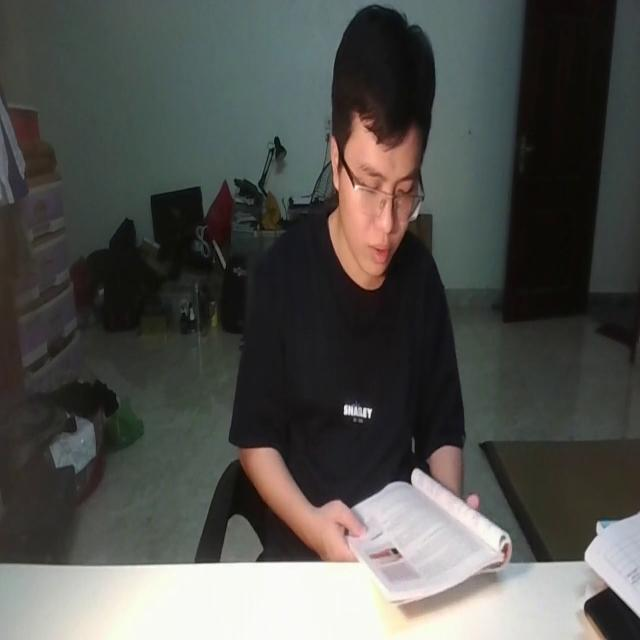book: (328, 464, 515, 607)
student: (232, 5, 473, 562)
